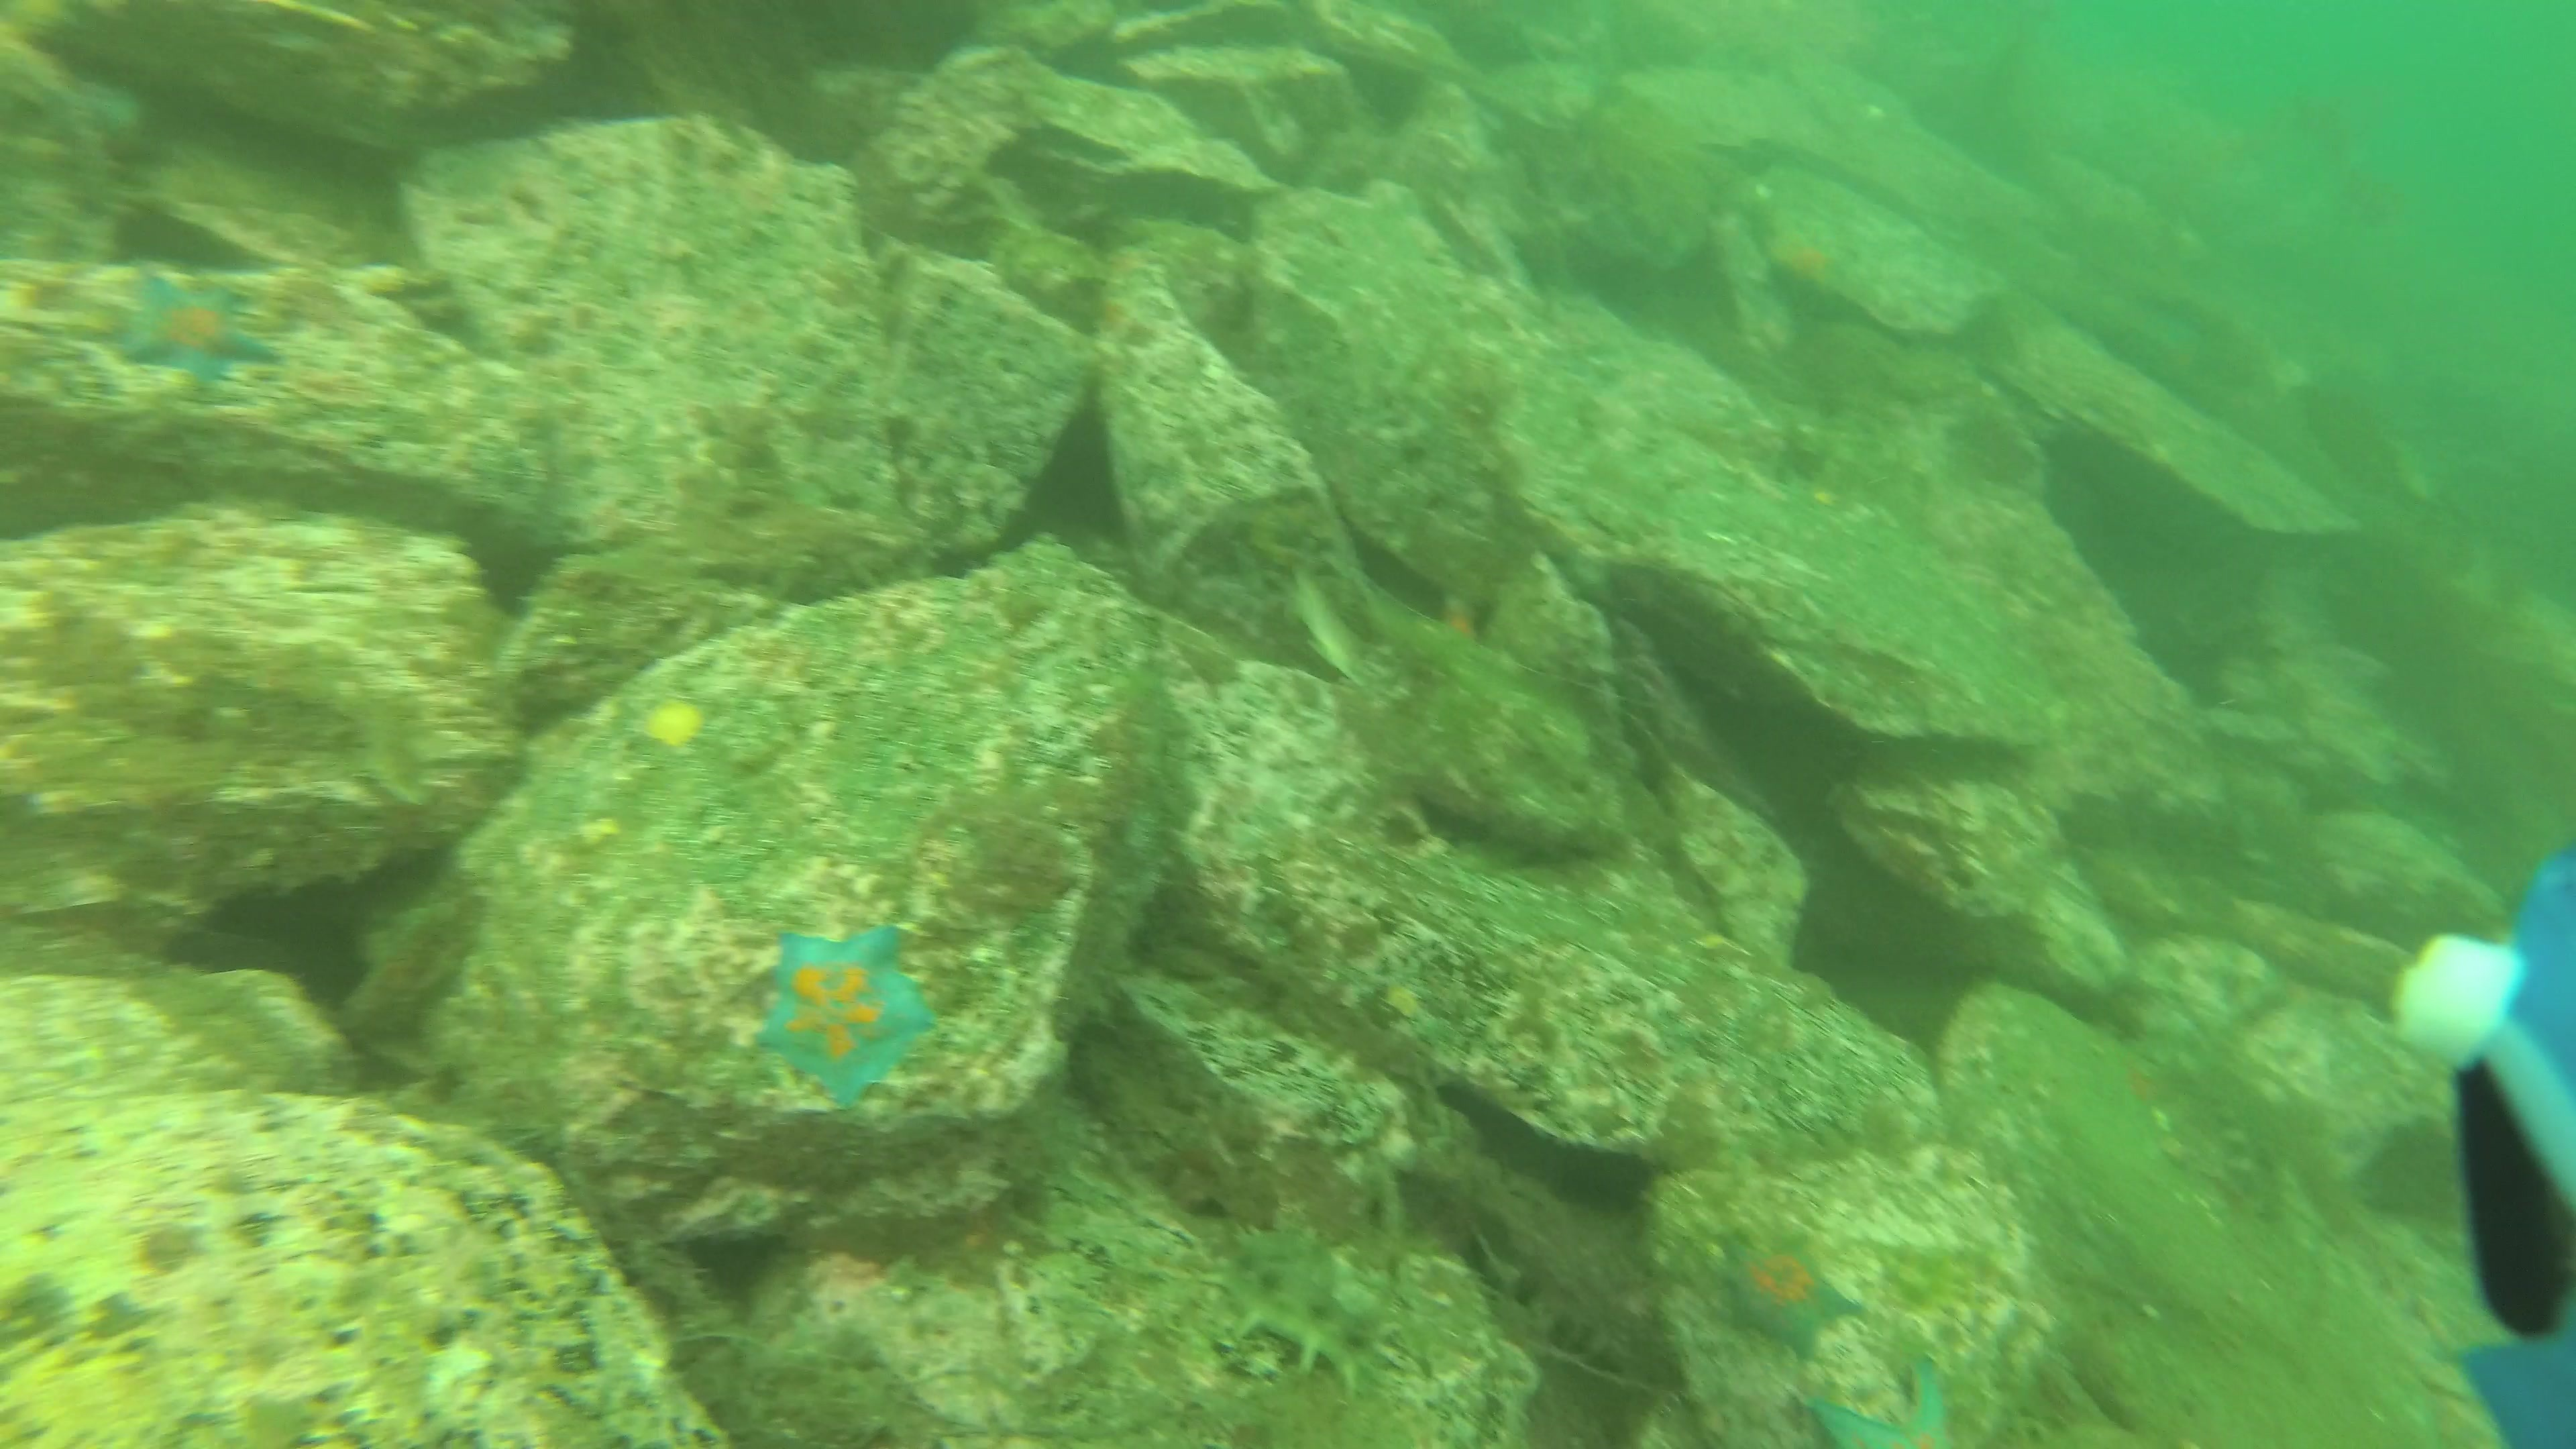holothurian: (1207, 1212, 1389, 1394)
starfish: (743, 915, 945, 1120), (104, 251, 292, 409), (1698, 1214, 1870, 1366), (1787, 1345, 1959, 1449)
